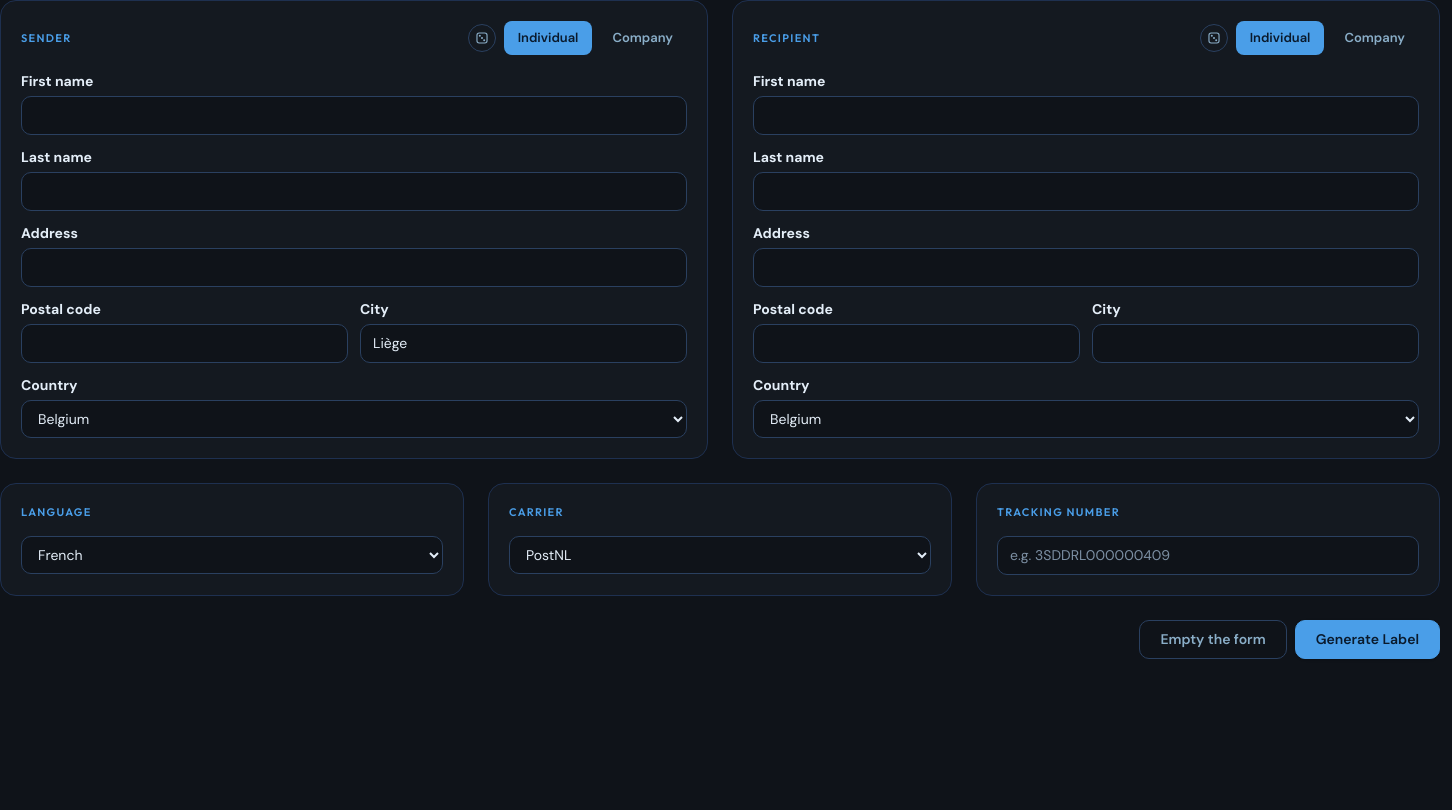
Test: the draft it keeps › empties what was kept, since a refresh no longer does it
The image size is (1452, 810).
Click the button "Empty the form": (1213, 640) x1=1139 y1=620 x2=1287 y2=659
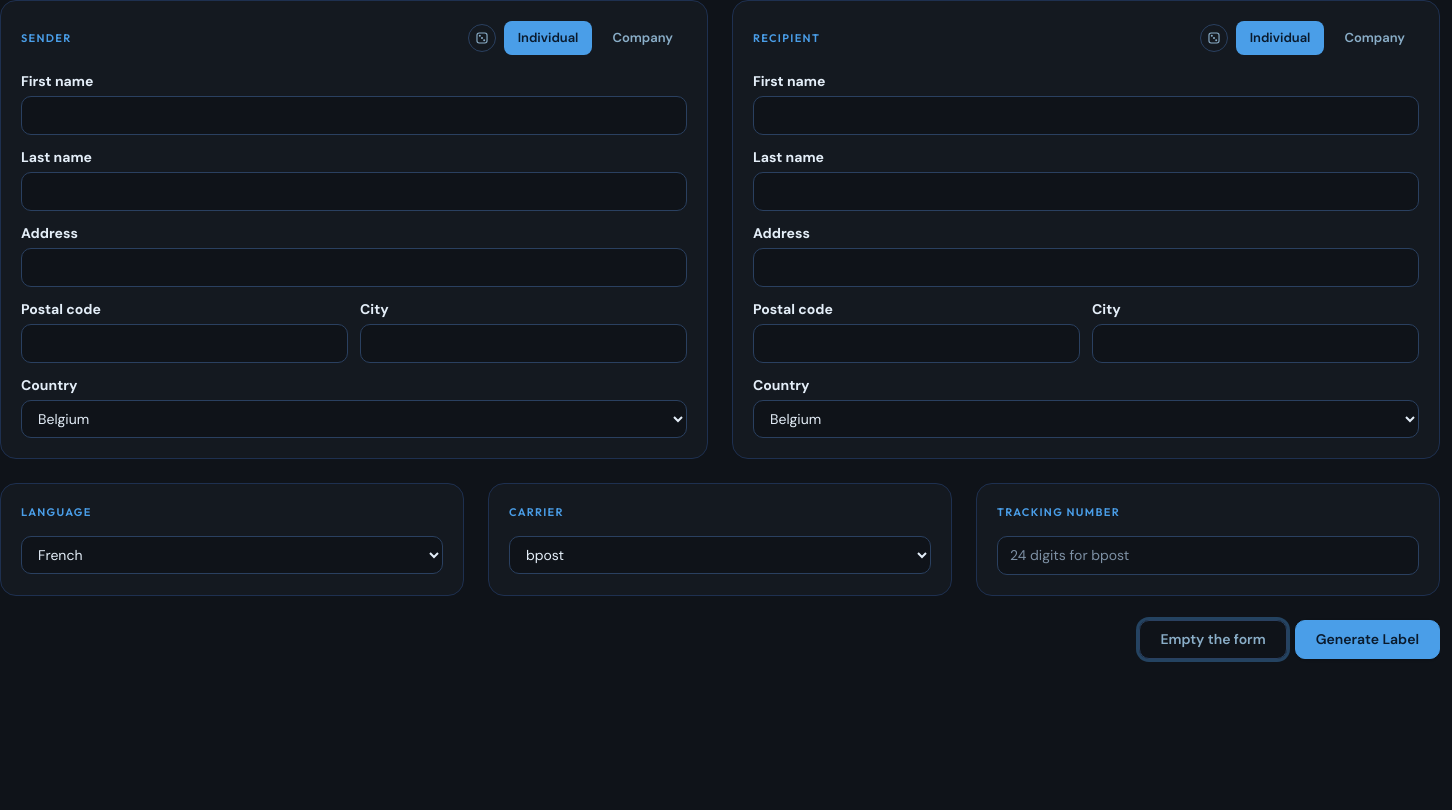
Expected: the 1st field labelled "City" is empty, x1=360 y1=324 x2=687 y2=362
Expected: the dropdown below "Carrier" shows "bpost", x1=509 y1=536 x2=931 y2=574
